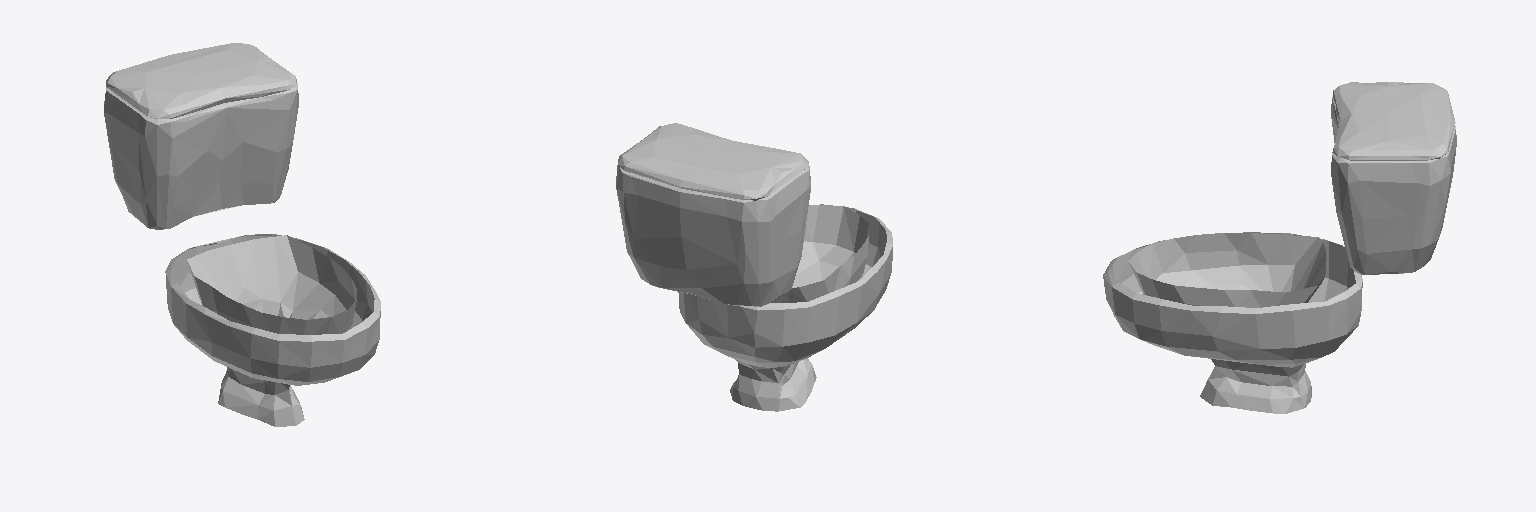
File: toliet1.obj
3 views of the same model, side by side, from view 1: azimuth 30°, elevation 25°; view 2: azimuth 150°, elevation 25°; view 3: azimuth 270°, elevation 25° (orthographic).
Size of the model in its own units: 0.4219 by 0.6972 by 0.7842.